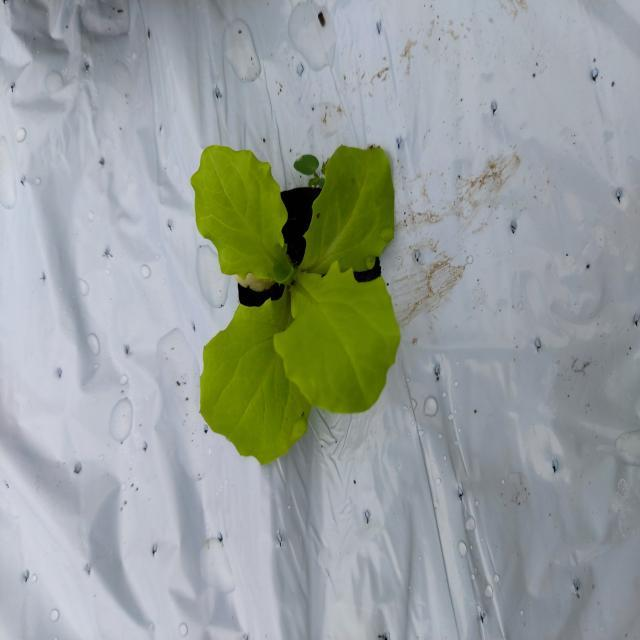Lettuce-Not-Ready-to-Harvest: (192, 146, 400, 462)
